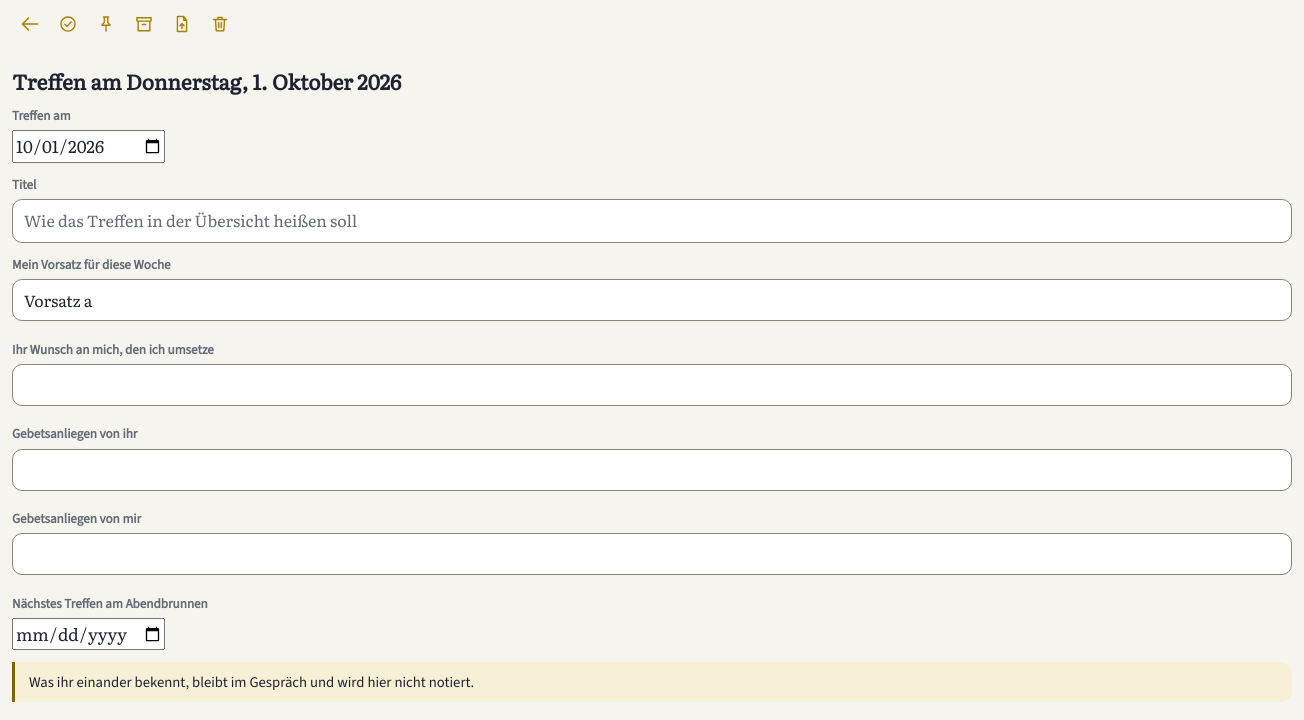
Test case: Treffen am Abendbrunnen › has the same icons as every entry of the Arena: save, pin, archive, delete
Click the button named "Anheften" at (106, 24), box [88,6,124,42]
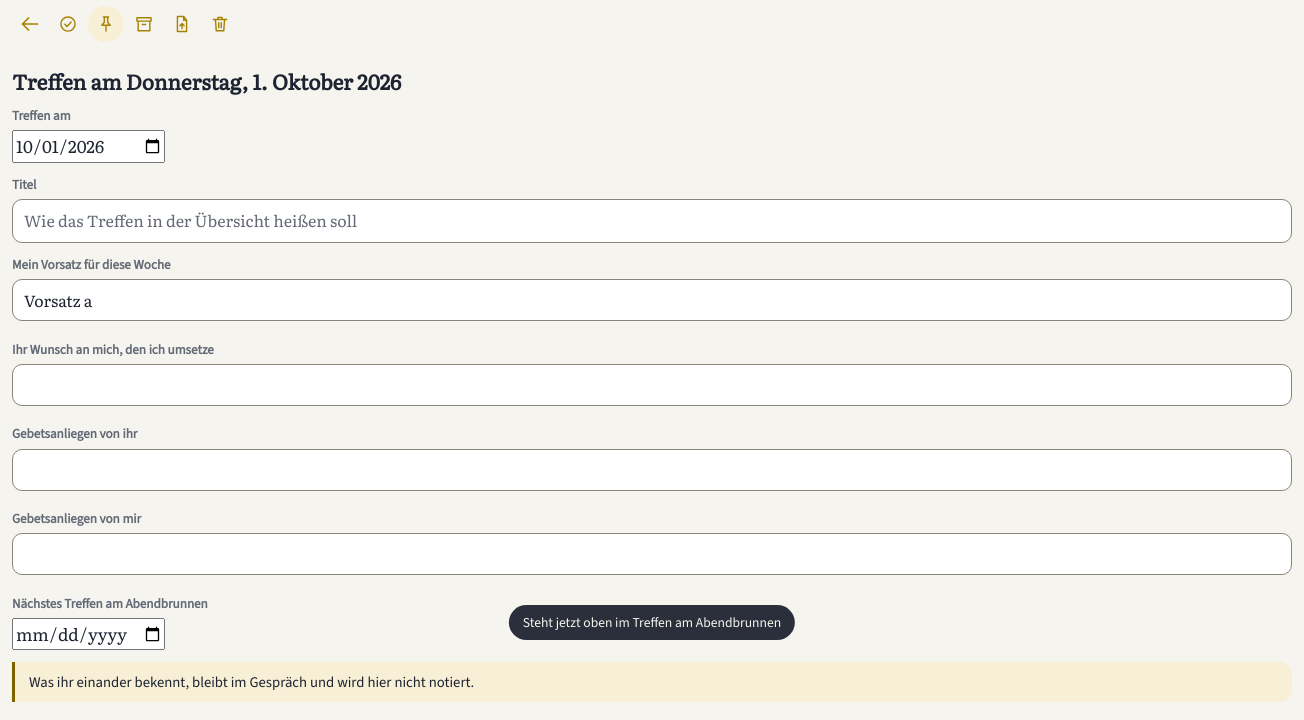
// Archived, a meeting leaves the list for the Rückblick and is no longer pinned.
Click the button named "Archivieren" at (144, 24), box [126,6,162,42]
(page scrolled)
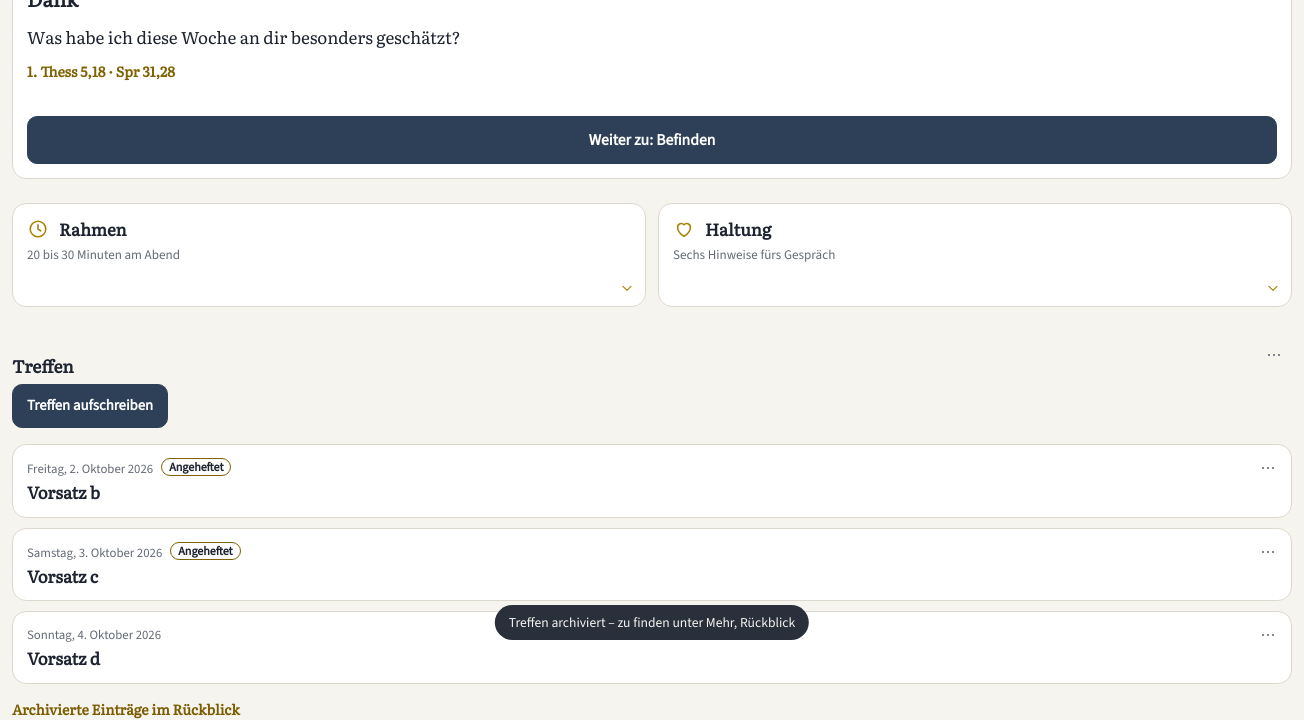
Check: the link "Vorsatz a" is not shown
Check: the link "Archivierte Einträge im Rückblick" is shown, box [12,698,240,719]
